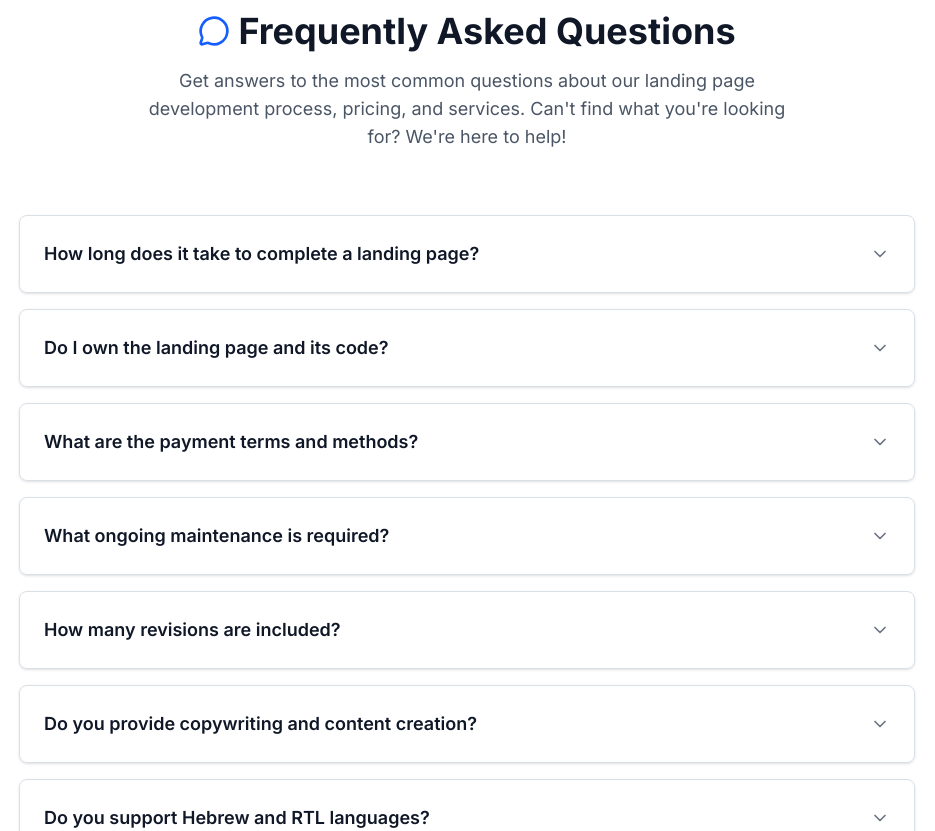
Scenario: FAQ Component › Expand/Collapse Functionality › expands FAQ item when clicked
Click the button "How long does it take to complete a landing page?".
click(467, 254)  # box [44,243,890,264]
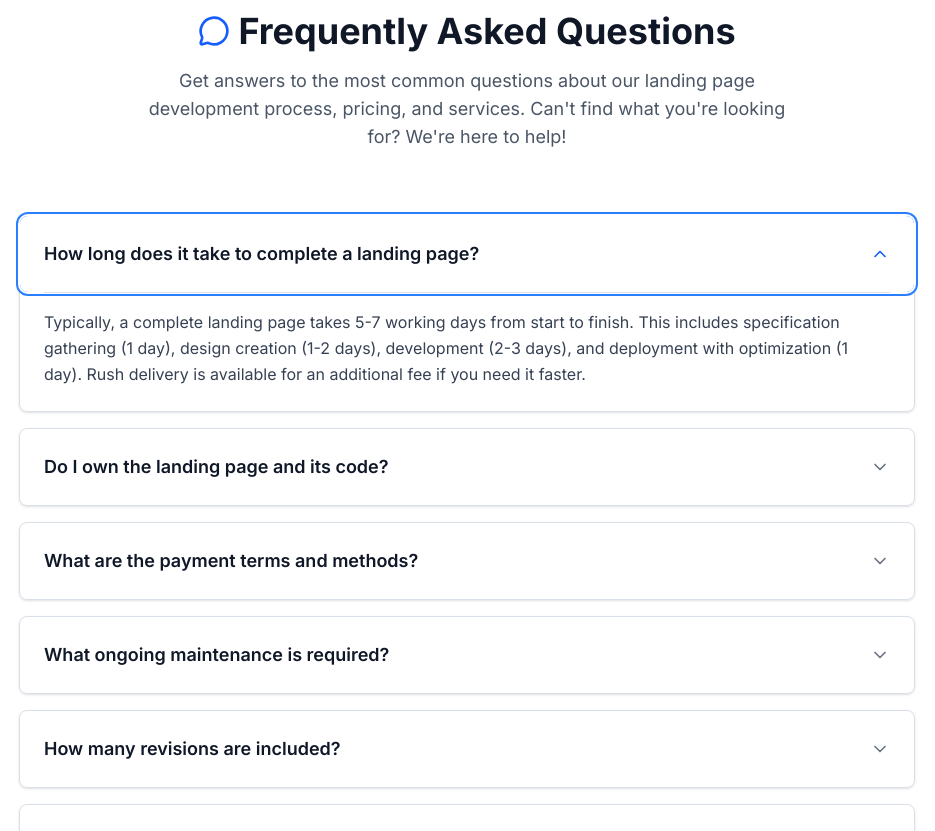
Expected: the button "How long does it take to complete a landing page?" is expanded, [20,216,914,292]
Expected: the text "Typically, a complete landing page takes 5-7 working days" is shown, [44,312,848,384]
